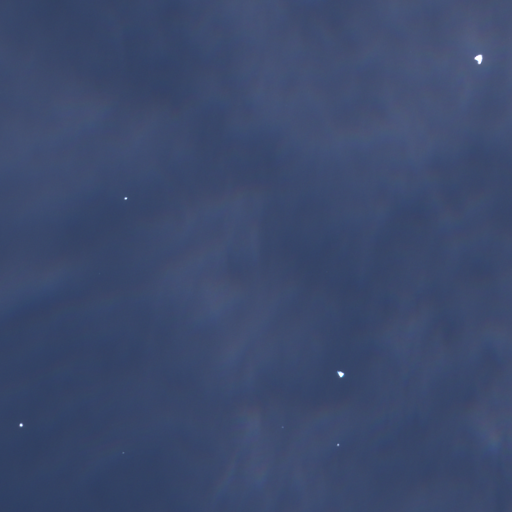Iceberg: (474, 55, 481, 63), (337, 371, 343, 377), (19, 423, 22, 426), (124, 197, 126, 199), (282, 426, 283, 427), (337, 444, 338, 445), (122, 452, 123, 453)
